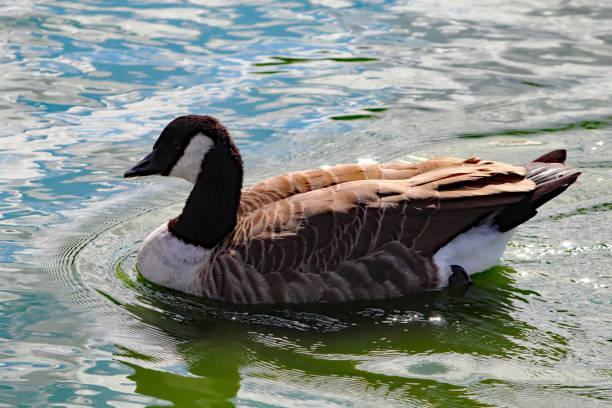Canadian-Goose: (124, 114, 576, 300)
